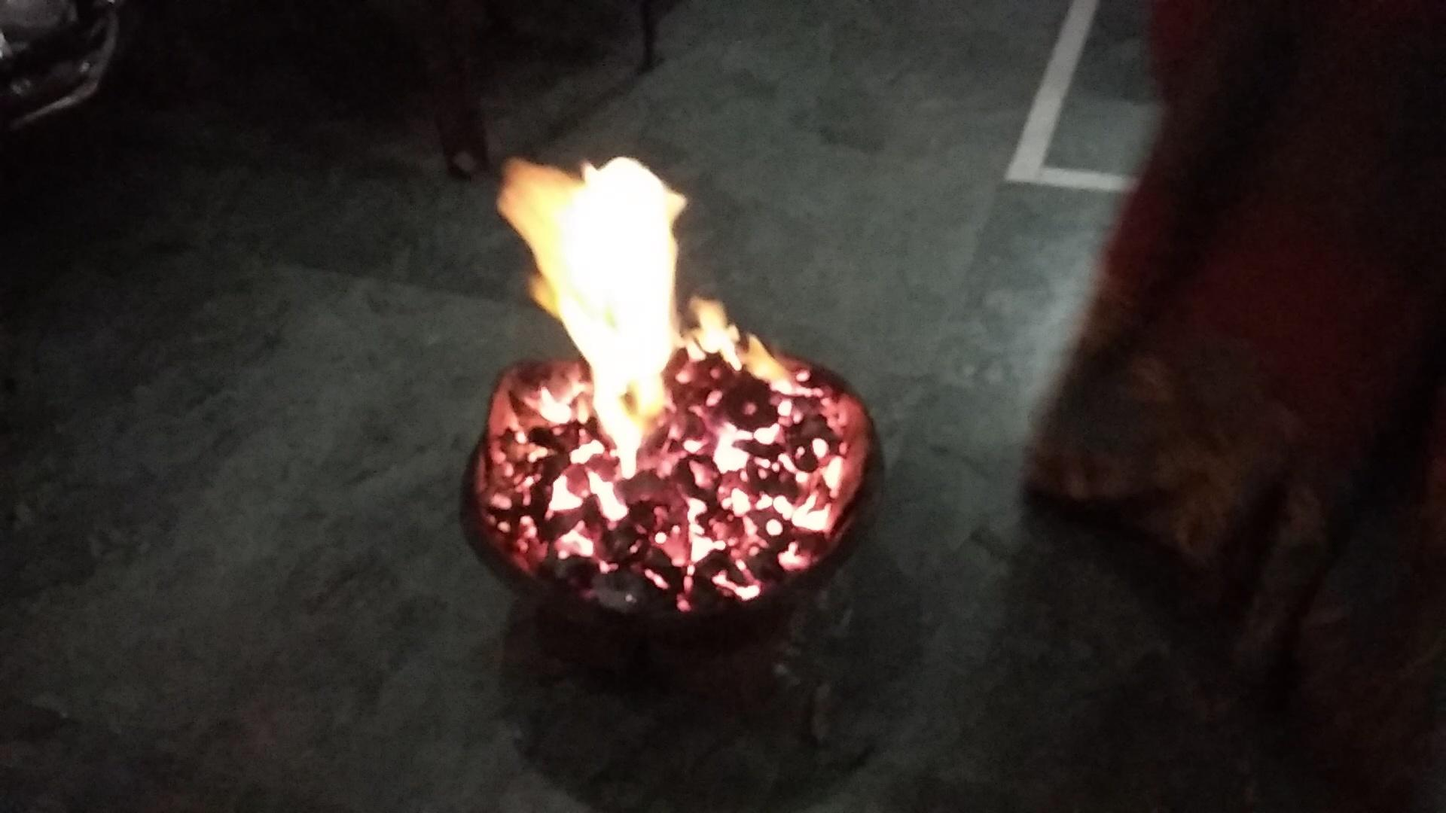fire: (493, 111, 861, 603)
